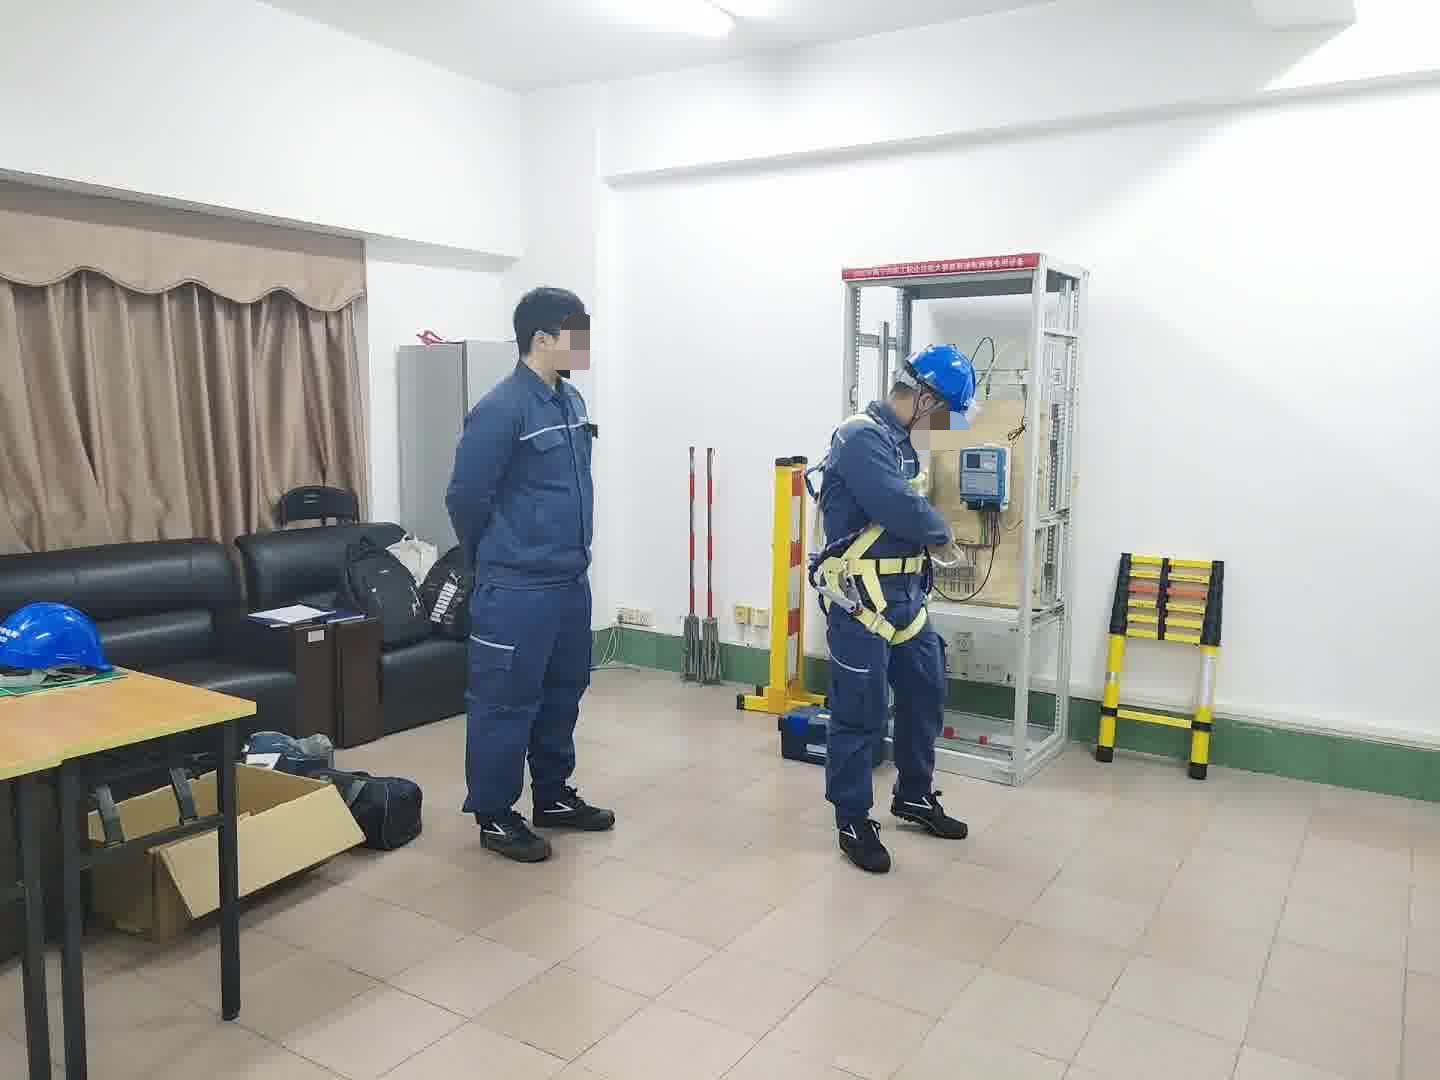halt: (900, 339, 973, 431)
inear: (910, 383, 948, 433)
noear: (530, 328, 565, 369)
unhalt: (513, 288, 598, 381)
